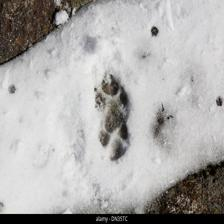fox: (96, 109, 134, 167), (88, 74, 135, 116)
